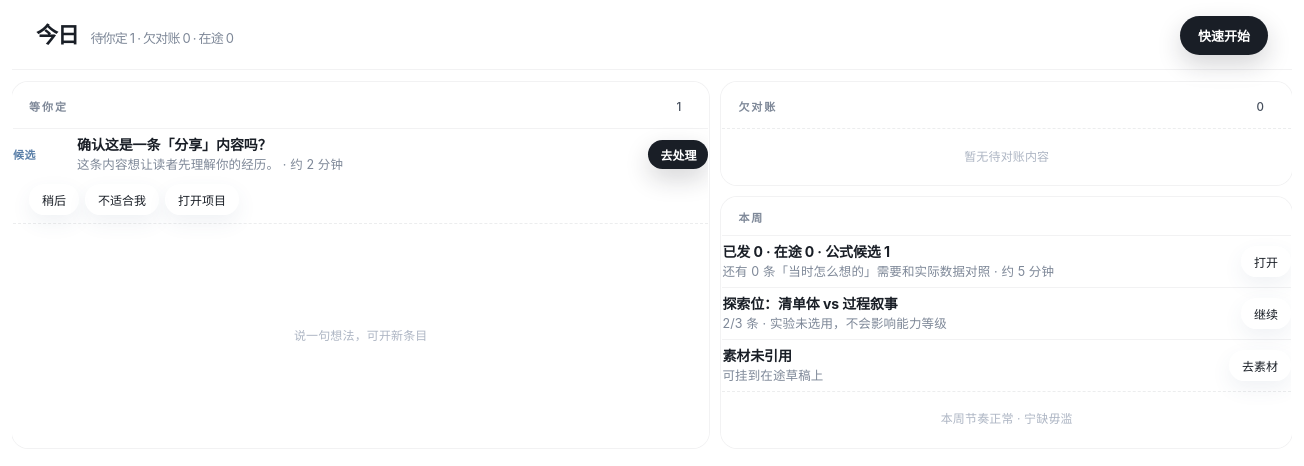
it: HomePage › requires a reason before stopping an unsuitable AI suggestion
Expected: the text "确认这是一条「分享」内容吗？" is shown, [77,136,272,153]
Click the button "不适合我" at (122, 200), box [85,184,159,215]
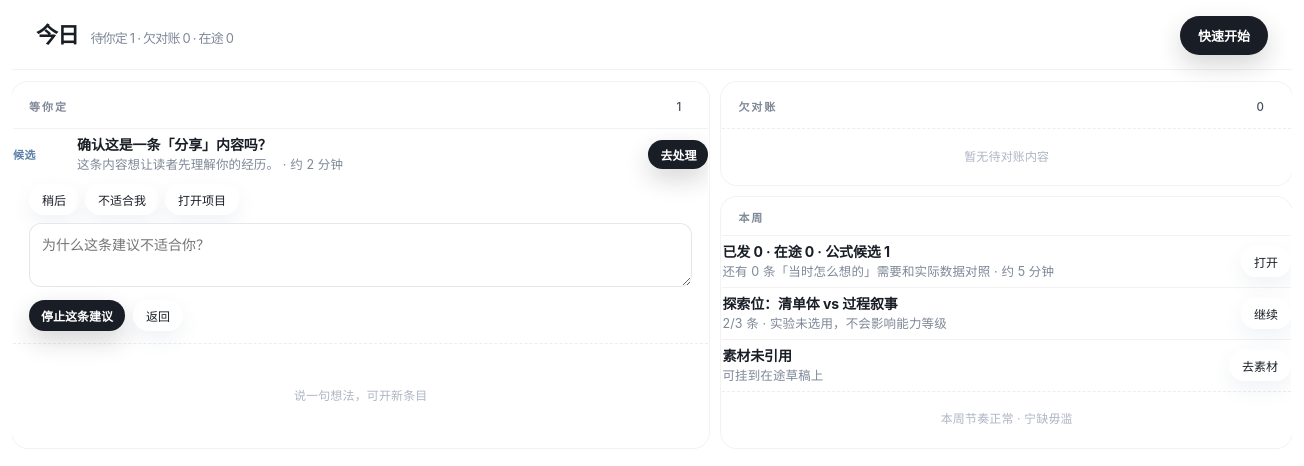
Result: the button "停止这条建议" is disabled at [29,300,125,331]
Type "这不是我本周想处理的内容。" into the text box labelled "为什么这条建议不适合你" at (361, 255), box [29,223,692,287]
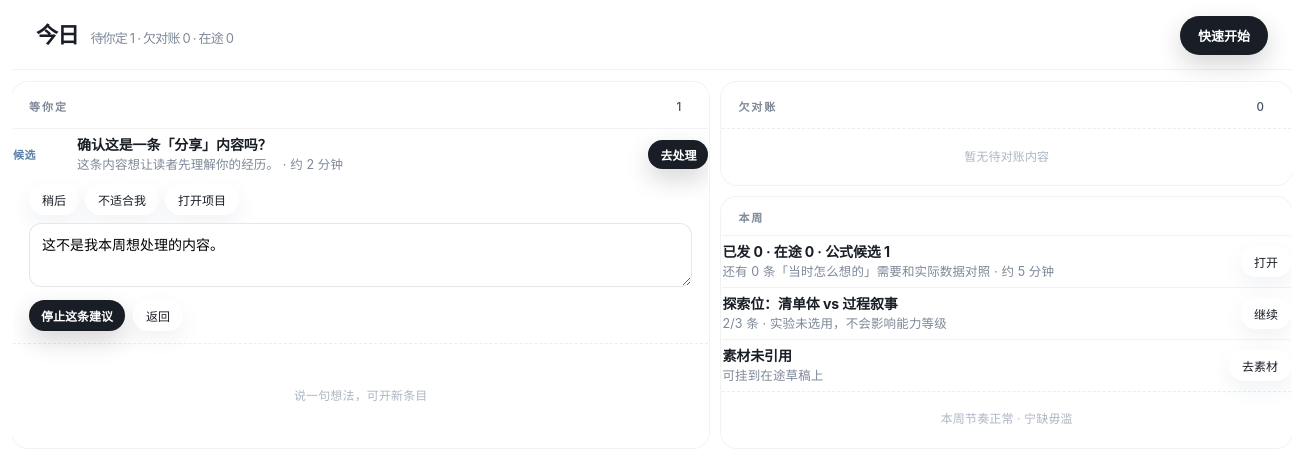
Click the button "停止这条建议" at (77, 316), box [29,300,125,331]
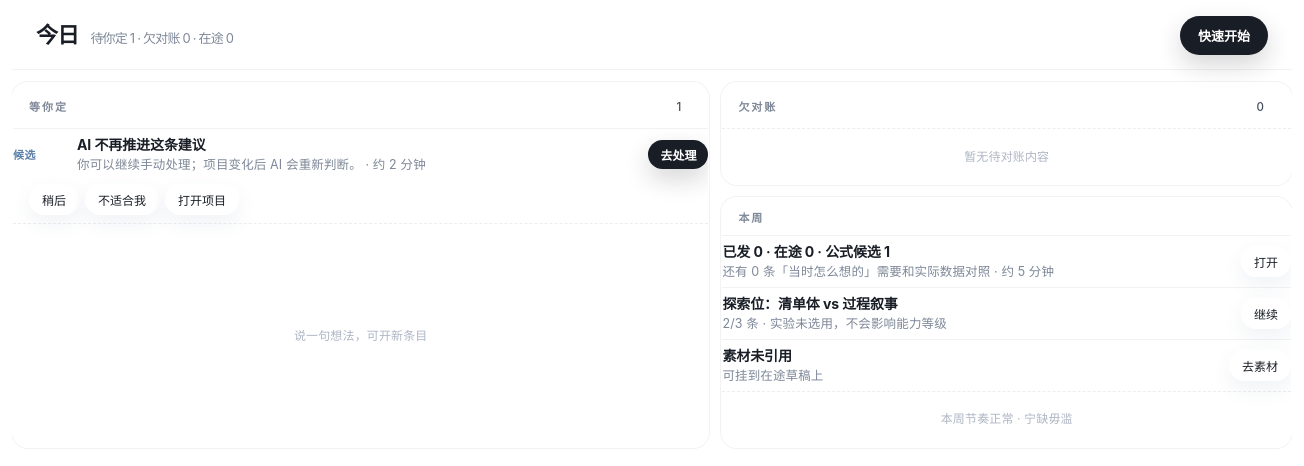
Result: the text "AI 不再推进这条建议" is shown at [77,136,206,153]
